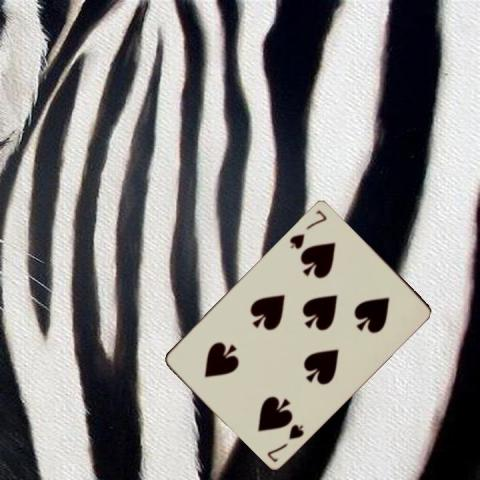7s: (286, 206, 328, 251), (264, 421, 305, 463)
